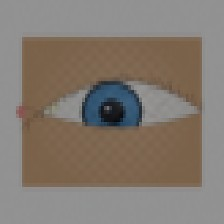pinguecula_lesion: (37, 94, 67, 117)
